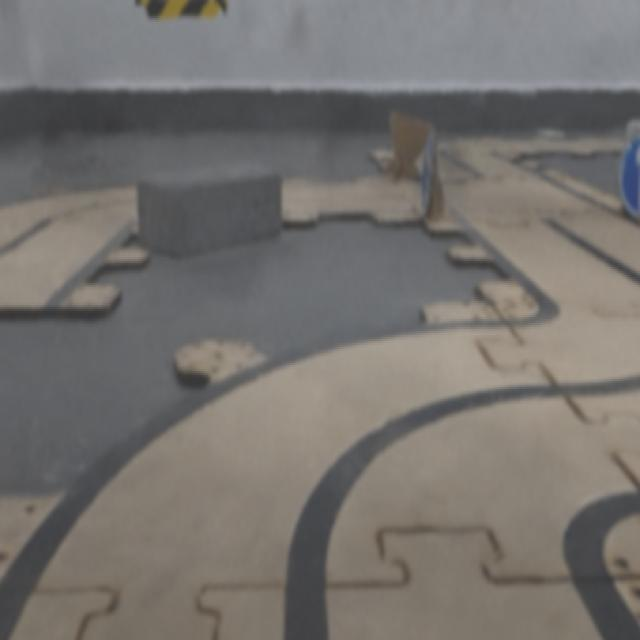STRAIGHT: (621, 136, 639, 217)
